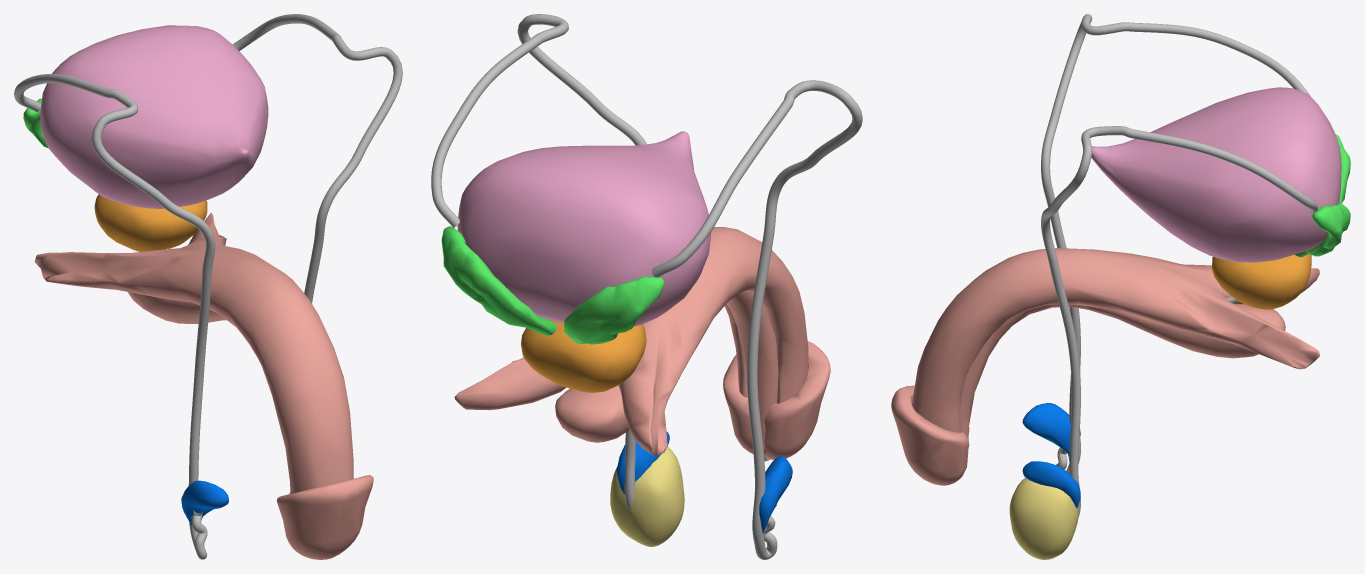
Rendered from Male_Repro.glb.
3 renders of one model, left to right at view 1: azimuth 30°, elevation 25°; view 2: azimuth 150°, elevation 25°; view 3: azimuth 270°, elevation 25°, orthographic. The views are drawn at different scales.
Parts seen in each view (by area): view 1: Penis, Urinary bladder, Vas Deferens, Prostate Gland, Epididymis, Seminal gland.r; view 2: Urinary bladder, Penis, Vas Deferens, Seminal gland.r, Prostate Gland, Testis, Epididymis; view 3: Penis, Urinary bladder, Vas Deferens, Testis, Prostate Gland, Epididymis, Seminal gland.r.
Boxes of the visible parts, x1,y1,x2,y2 form: Penis: [34, 212, 373, 559]; Urinary bladder: [39, 25, 268, 208]; Vas Deferens: [14, 14, 402, 559]; Prostate Gland: [94, 194, 207, 251]; Epididymis: [181, 480, 228, 525]; Seminal gland.r: [23, 98, 48, 148]; Urinary bladder: [457, 131, 710, 326]; Penis: [454, 227, 830, 459]; Vas Deferens: [431, 14, 862, 559]; Seminal gland.r: [441, 226, 664, 344]; Prostate Gland: [521, 319, 646, 392]; Testis: [610, 446, 684, 546]; Epididymis: [616, 432, 792, 533]; Penis: [891, 248, 1319, 485]; Urinary bladder: [1091, 87, 1341, 262]; Vas Deferens: [1041, 14, 1317, 517]; Testis: [1009, 477, 1078, 559]; Prostate Gland: [1212, 254, 1311, 309]; Epididymis: [1022, 403, 1080, 508]; Seminal gland.r: [1294, 134, 1350, 257].
Size of the model in its own units: 0.1123 by 0.1654 by 0.151.
